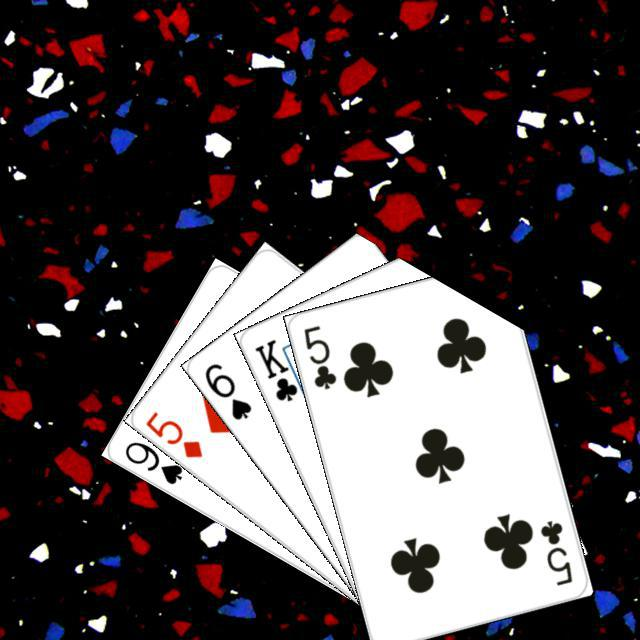5c: (535, 515, 575, 587), (299, 320, 339, 391)
5d: (140, 406, 204, 460)
6s: (199, 358, 254, 422)
9s: (119, 436, 185, 487)
Kc: (249, 334, 310, 404)
